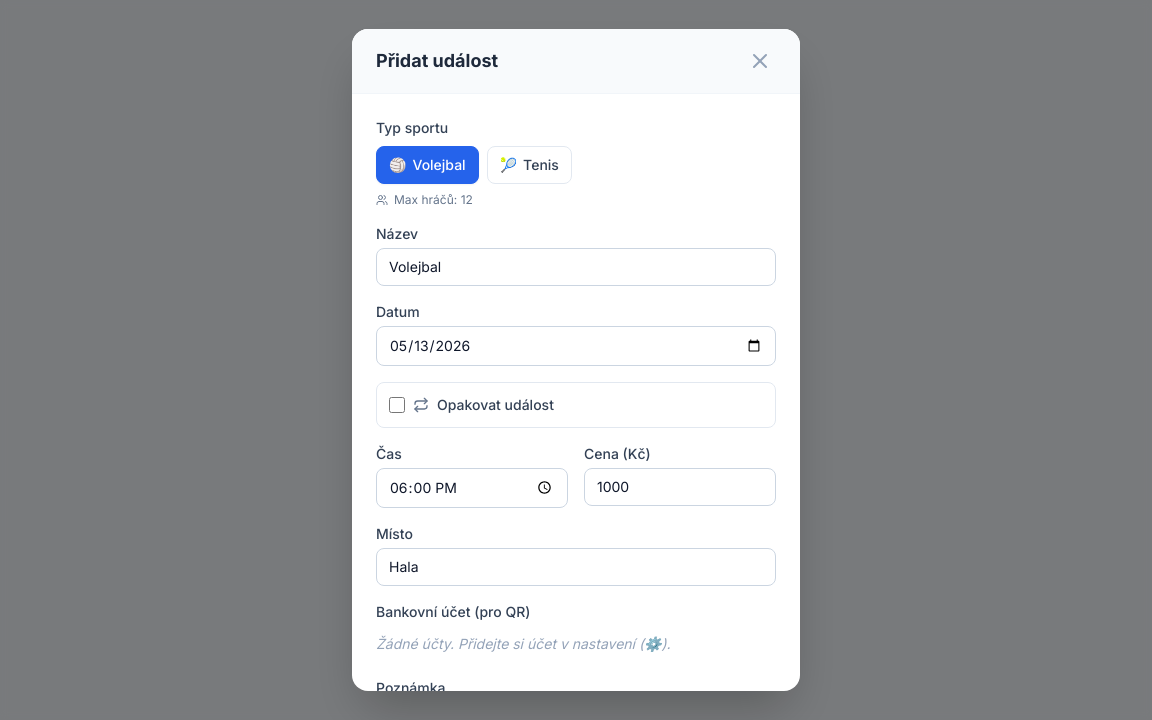
it: CreateEventModal — Recurrence › shows frequency and count controls when toggle is enabled
Click the checkbox with test id "recurrence-toggle". click: coordinates (397, 405)
box: [389,397,405,413]
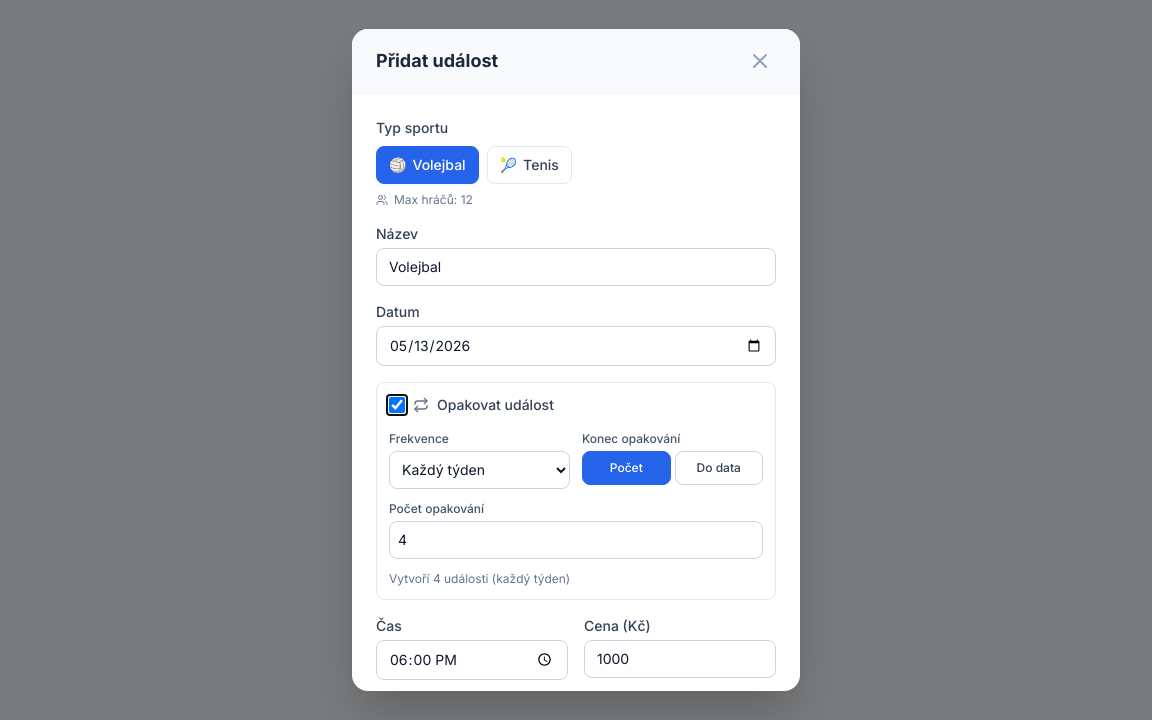
Result: the element with test id "recurrence-options" is shown at [389,427,763,587]
Result: the dropdown with test id "recurrence-frequency" is shown at [389,451,570,489]
Result: the number field with test id "recurrence-count" is shown at [389,521,763,559]
